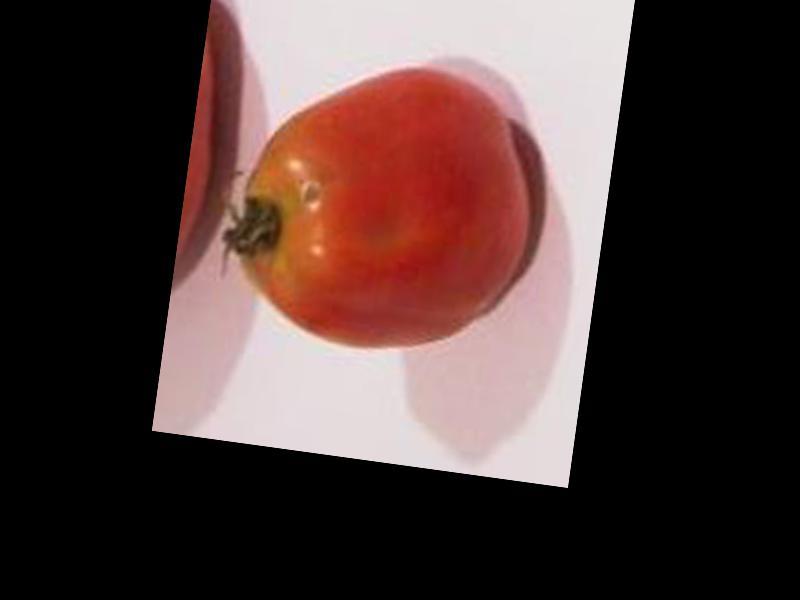Tomato: (222, 46, 541, 365)
